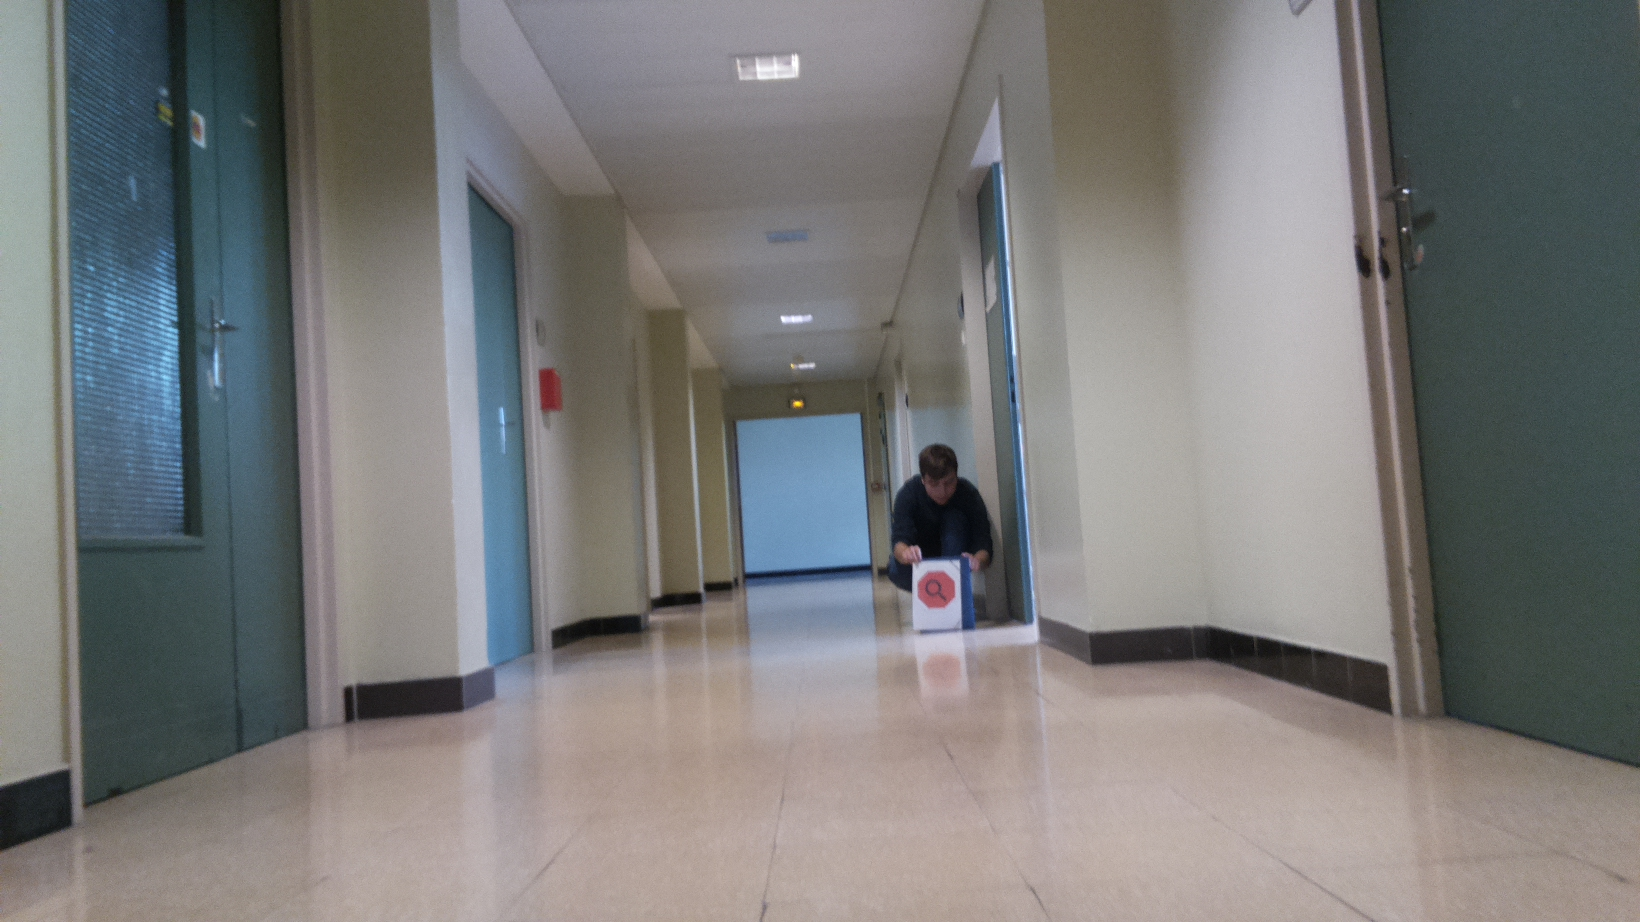search: (916, 569, 959, 610)
